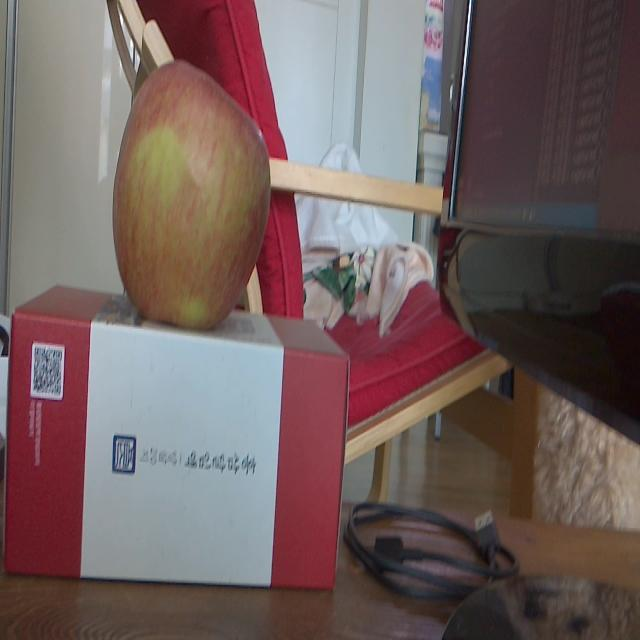apple: (114, 58, 272, 336)
